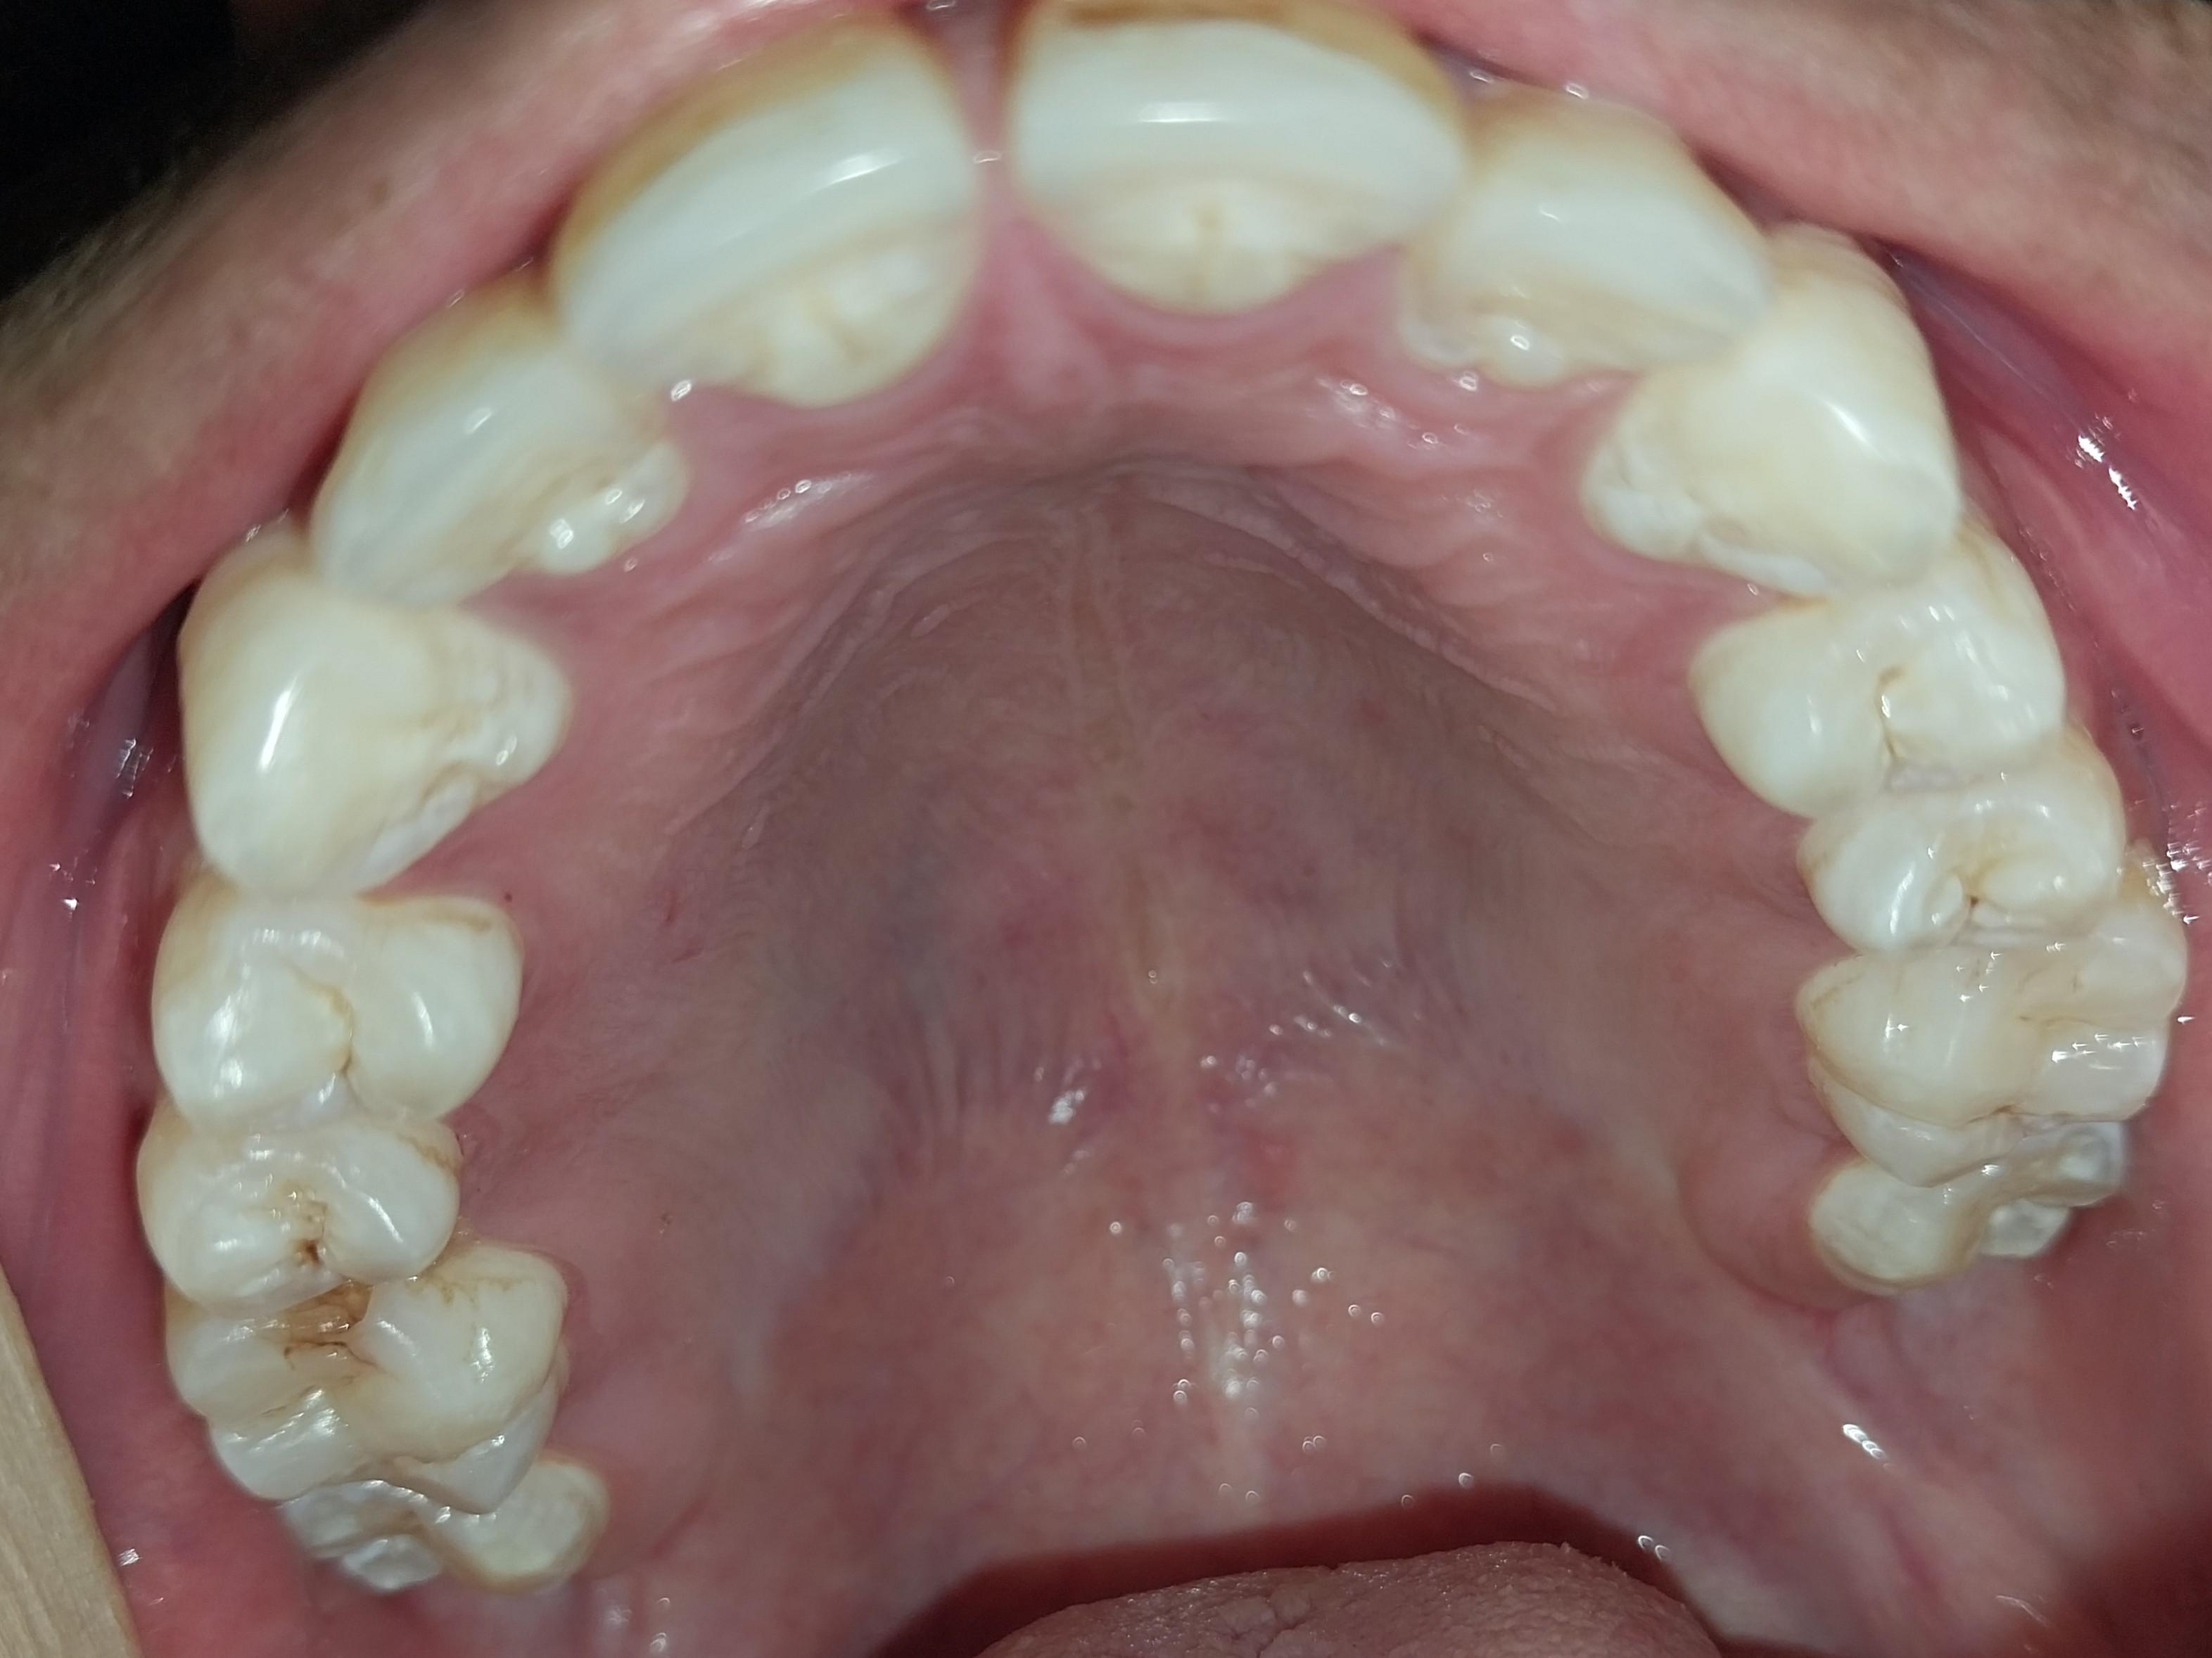D: (129, 1093, 459, 1332), (1795, 745, 2139, 948)
